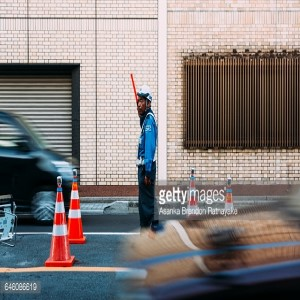traffic cone: (44, 188, 76, 267), (64, 180, 87, 242)
